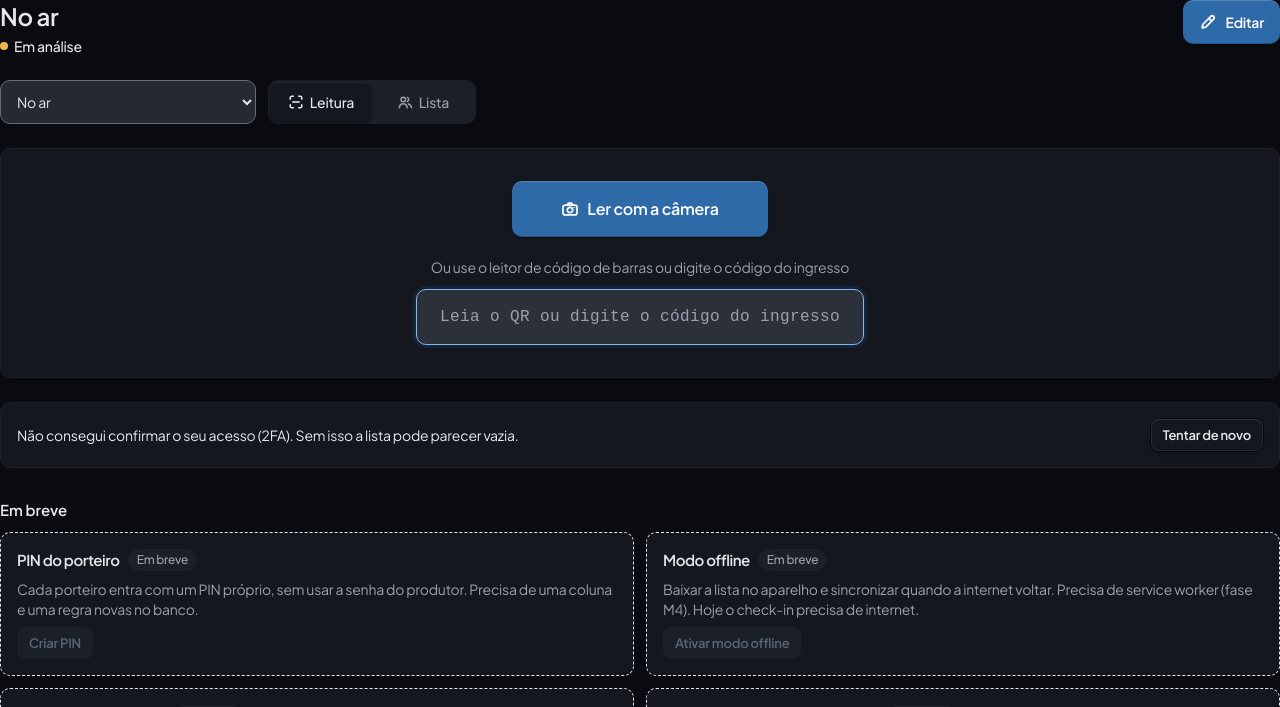
Test case: campo do Scanner › Enter valida o que foi digitado, e o servidor diz que é inválido
The width and height of the screenshot is (1280, 707).
Type "ABC123" into the field labelled "código do ingresso" at (640,317), box [416, 289, 864, 345]
Then press Enter
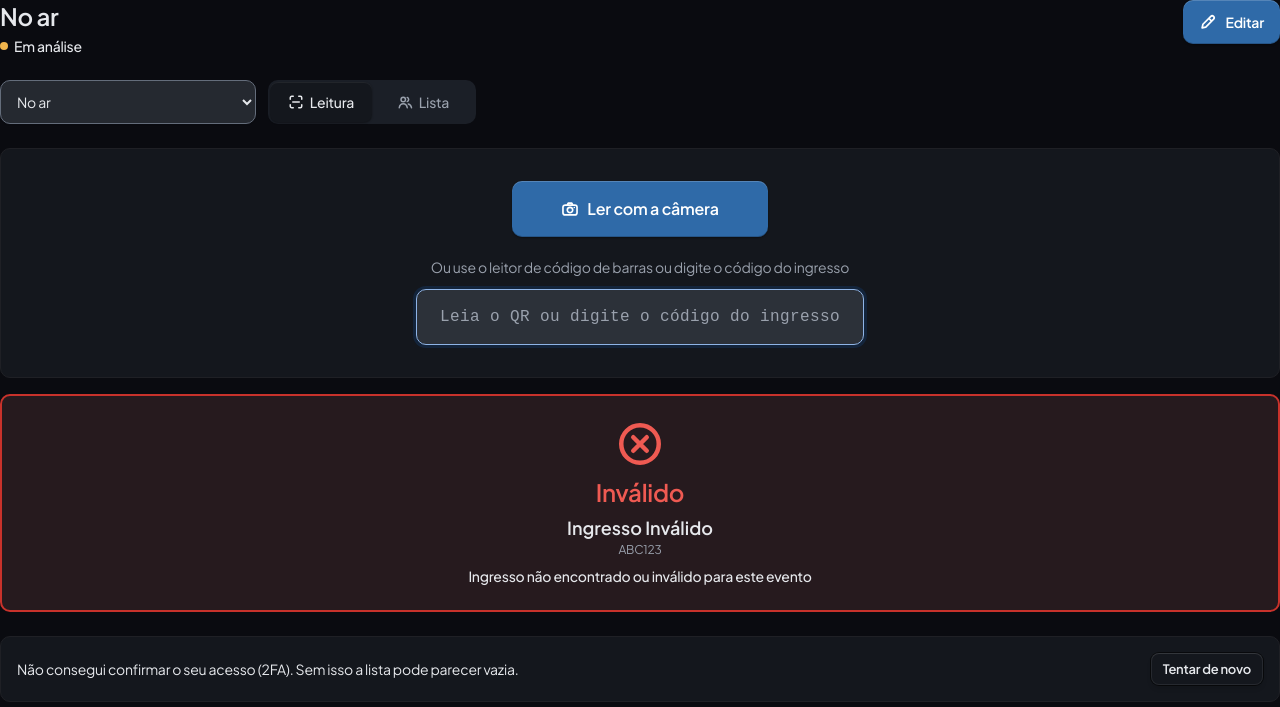
Expected: the text "Inválido" is shown, [596, 477, 684, 507]
